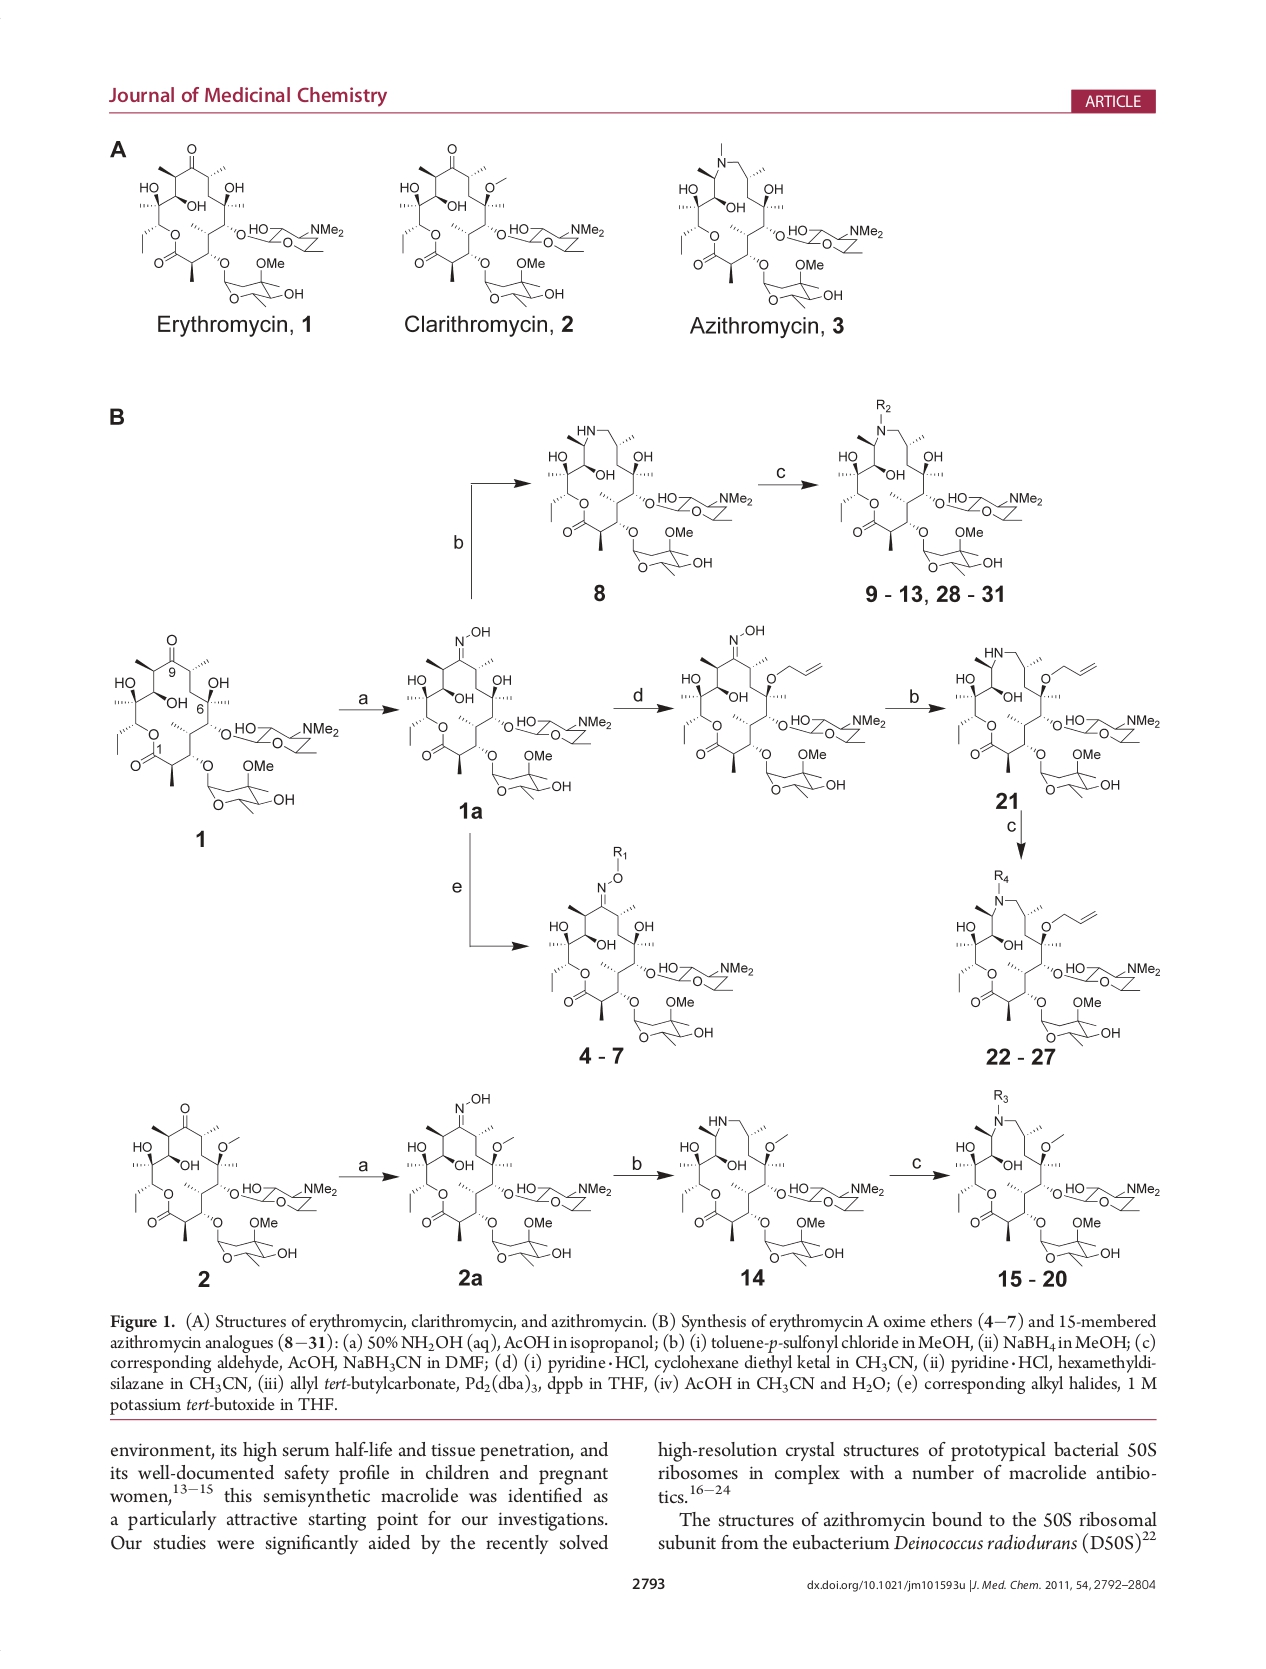exist_molecular: (106, 630, 340, 817), (544, 842, 757, 1047), (949, 1080, 1164, 1267), (832, 394, 1045, 580), (402, 622, 614, 805), (951, 866, 1165, 1047), (677, 621, 890, 802), (403, 1091, 613, 1267), (395, 140, 608, 313), (676, 140, 884, 313), (129, 1098, 339, 1267), (136, 142, 344, 311), (541, 422, 755, 578), (951, 642, 1161, 799), (676, 1113, 884, 1266)
